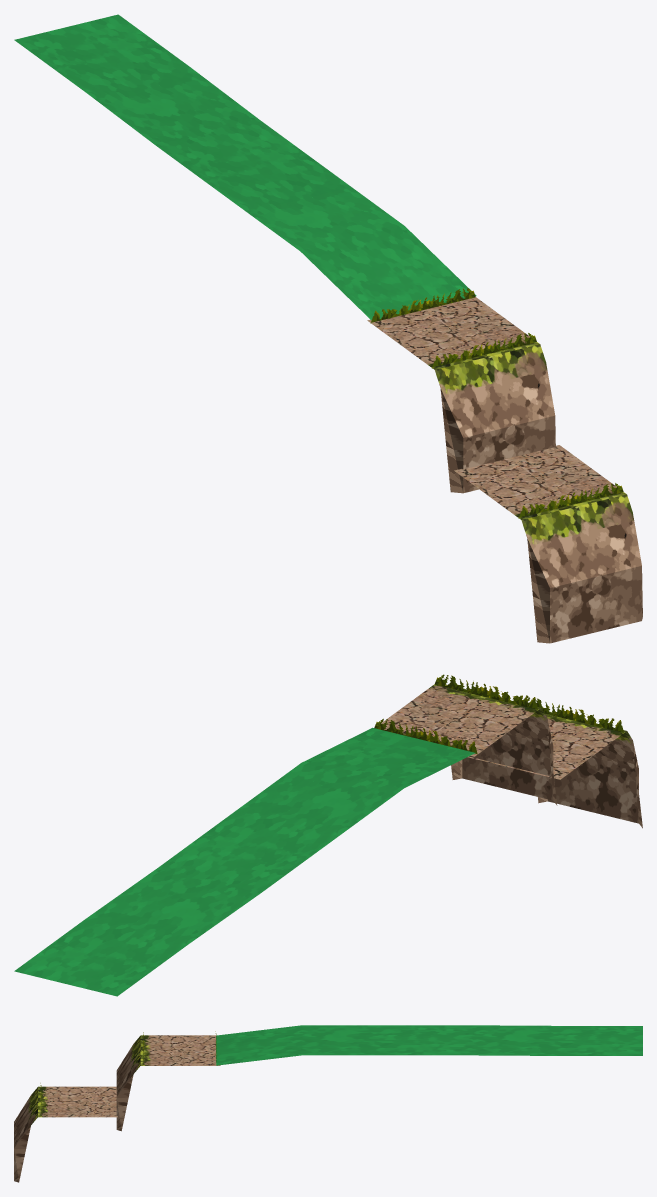
The model's file is terreno_04.FBX.
3 views of the same model, one above another, from view 1: azimuth 30°, elevation 25°; view 2: azimuth 150°, elevation 25°; view 3: azimuth 270°, elevation 25° (orthographic). The views are drawn at different scales.
Parts seen in each view (by area): view 1: Terreno015; view 2: Terreno015; view 3: Terreno015.
Part boxes in pixels (x1,y1,x2,y2): Terreno015: (14, 14, 642, 643); Terreno015: (14, 674, 642, 996); Terreno015: (14, 1025, 642, 1182).
Size of the model in its own units: 2.05 by 17.44 by 3.9.
Materials: 2 (2 with a texture image).
